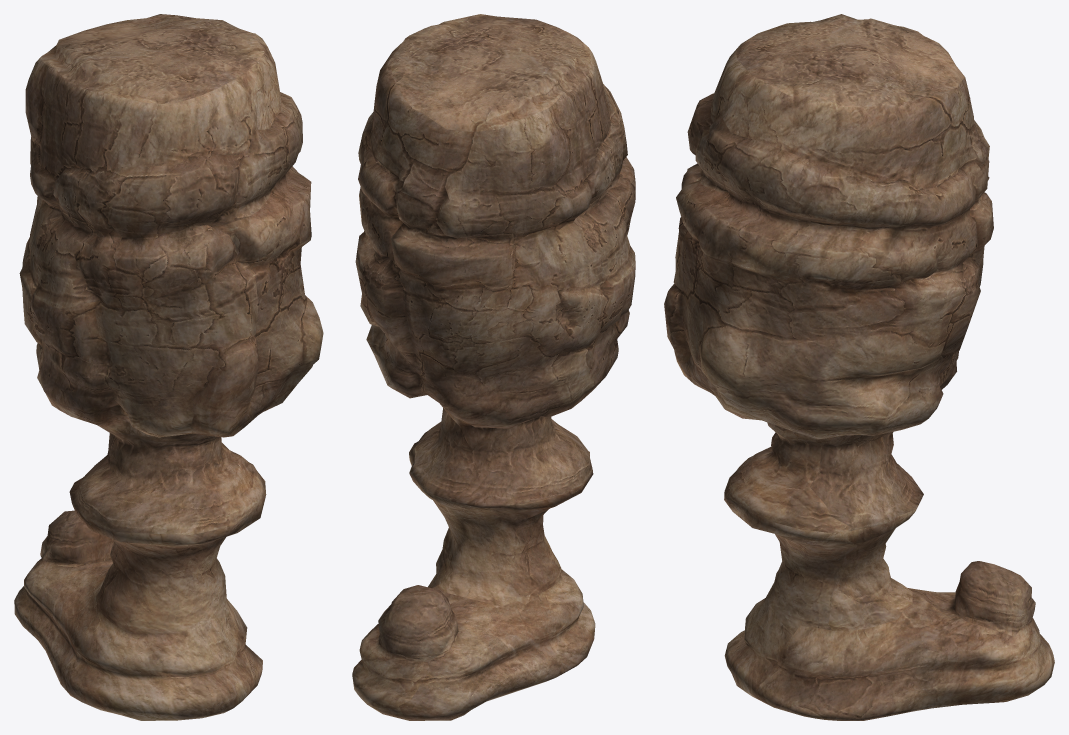
File: rock_medium_pillar01.dae
The picture shows the model from 3 angles, left to right: view 1: azimuth 30°, elevation 25°; view 2: azimuth 150°, elevation 25°; view 3: azimuth 270°, elevation 25°; orthographic projection. The views are drawn at different scales.
Visible parts, largest first — view 1: Mesh; view 2: Mesh; view 3: Mesh.
Part boxes in pixels (<box>): Mesh: <box>14,14,323,720</box>; Mesh: <box>352,14,635,720</box>; Mesh: <box>664,14,1054,720</box>.
Bounding box in the file's own units: 1.77 × 4.24 × 2.34.
